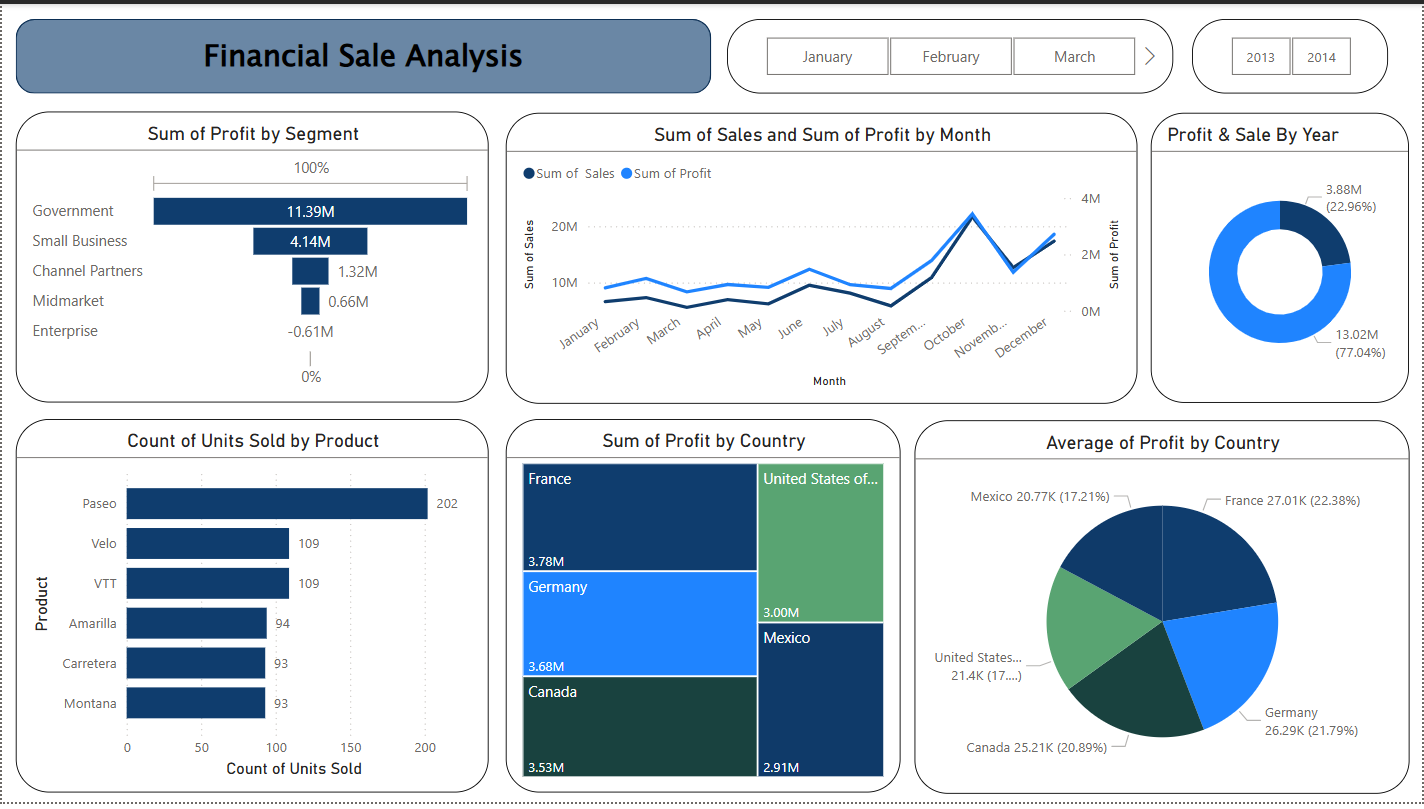

Layout of this report page (visuals, bound fields, positions):
{"tool":"powerbi","page":{"name":"Page 1","canvas":[1280,720],"ordinal":0},"visuals":[{"type":"areaChart","fields":{"Category":["financials.Date.Variation.Date Hierarchy.Month"],"Y":["Sum(financials. Sales)"],"Y2":["Sum(financials.Profit)"]},"box":[454,98.3,569.7,262.5],"z":1},{"type":"treemap","fields":{"Group":["financials.Country"],"Values":["Sum(financials.Profit)"]},"box":[454,374.4,355.8,337.1],"z":2},{"type":"funnel","fields":{"Category":["financials.Segment"],"Y":["Sum(financials.Profit)"]},"box":[12.3,97.4,426.8,262.1],"z":3},{"type":"pieChart","fields":{"Category":["financials.Country"],"Y":["Avg(financials.Profit)"]},"box":[822.3,375.7,446.6,337.1],"z":4},{"type":"clusteredBarChart","fields":{"Category":["financials.Product"],"Y":["CountNonNull(financials.Units Sold)"]},"box":[12.4,374.4,426.7,337.1],"z":5},{"type":"slicer","fields":{"Values":["financials.Date.Variation.Date Hierarchy.Month"]},"box":[653.2,13.7,402.1,67.2],"z":6},{"type":"shape","title":"Financila ","box":[12.3,13.7,627.1,67.2],"z":7},{"type":"slicer","fields":{"Values":["financials.Date.Variation.Date Hierarchy.Year"]},"box":[1073.1,13.7,177,67.2],"z":8},{"type":"donutChart","title":"Profit & Sale By Year","fields":{"Category":["financials.Date.Variation.Date Hierarchy.Year"],"Y":["Sum(financials.Profit)"]},"box":[1036.2,98.3,232.6,261.2],"z":9}]}

Visuals, with their boxes in screenshot pixels (x1, y1, x2, y2), scaled from the page's 1280x720 canvas onto the 1424x809 screenshot:
areaChart - financials.Date.Variation.Date Hierarchy.Month x Sum(financials. Sales): 505, 110, 1139, 405
treemap - financials.Country x Sum(financials.Profit): 505, 421, 901, 799
funnel - financials.Segment x Sum(financials.Profit): 14, 109, 488, 404
pieChart - financials.Country x Avg(financials.Profit): 915, 422, 1412, 801
clusteredBarChart - financials.Product x CountNonNull(financials.Units Sold): 14, 421, 488, 799
slicer - financials.Date.Variation.Date Hierarchy.Month: 727, 15, 1174, 91
"Financila " shape: 14, 15, 711, 91
slicer - financials.Date.Variation.Date Hierarchy.Year: 1194, 15, 1391, 91
"Profit & Sale By Year" donutChart: 1153, 110, 1412, 404
